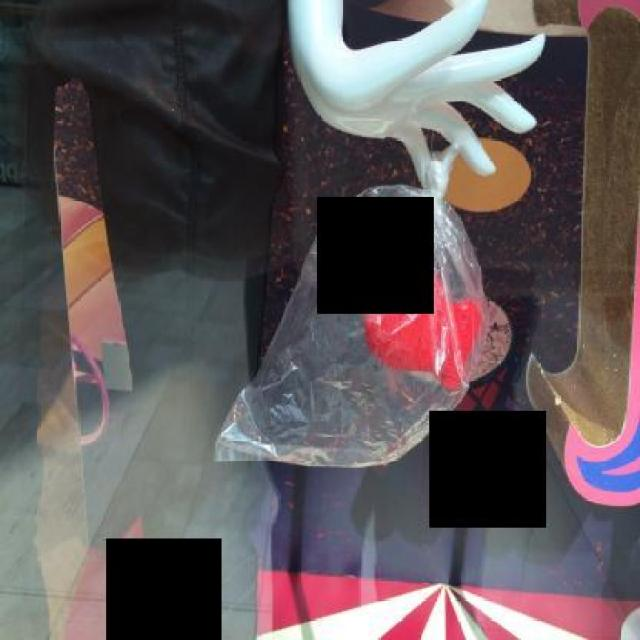plastic bag: (209, 117, 497, 474)
